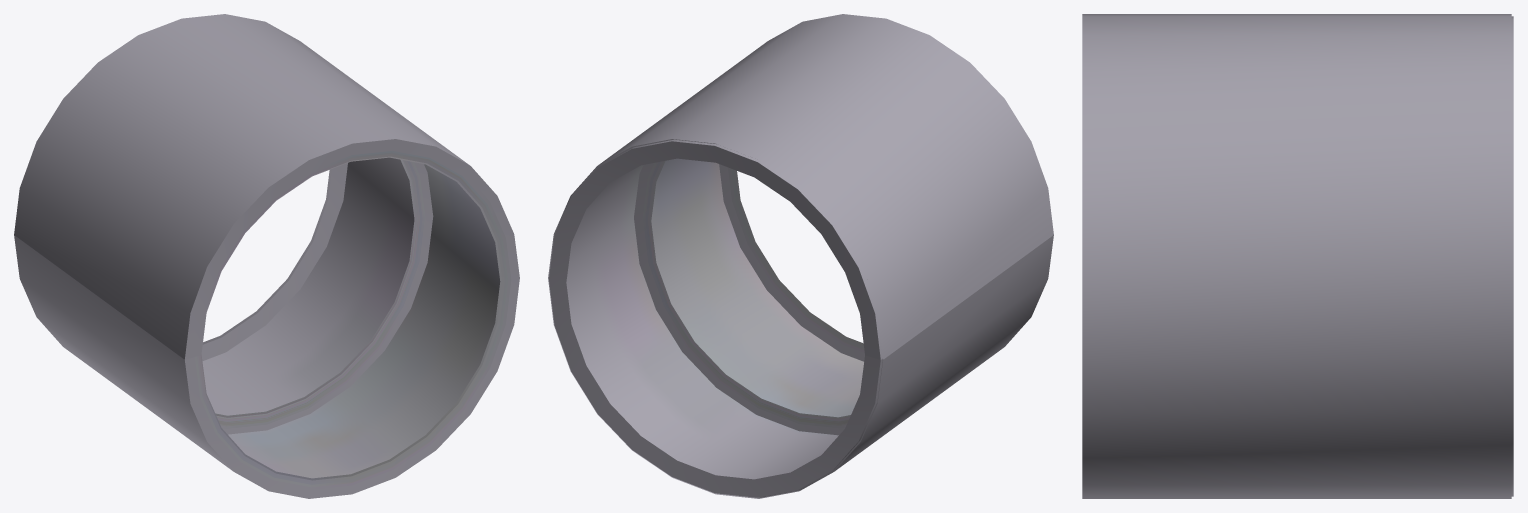
The model's file is tenftinterstage.obj.
The picture shows the model from 3 angles, left to right: view 1: azimuth 30°, elevation 25°; view 2: azimuth 150°, elevation 25°; view 3: azimuth 270°, elevation 25°; orthographic projection. The views are drawn at different scales.
Visible parts, largest first — view 1: group0, group1, group2, group4, group3; view 2: group0, group1, group3, group4, group2; view 3: group0, group1.
Boxes of the visible parts, left/top/right/bottom form: group0: left=14, top=14, right=468, bottom=470; group1: left=202, top=157, right=500, bottom=478; group2: left=184, top=139, right=519, bottom=498; group4: left=215, top=159, right=433, bottom=434; group3: left=201, top=163, right=347, bottom=361; group0: left=548, top=14, right=1053, bottom=498; group1: left=566, top=139, right=882, bottom=479; group3: left=549, top=139, right=883, bottom=497; group4: left=634, top=161, right=850, bottom=435; group2: left=719, top=164, right=864, bottom=361; group0: left=1082, top=14, right=1511, bottom=498; group1: left=1511, top=16, right=1513, bottom=496.
Size of the model in its own units: 3.11 by 3.11 by 2.76.
1 material, 1 textured.
